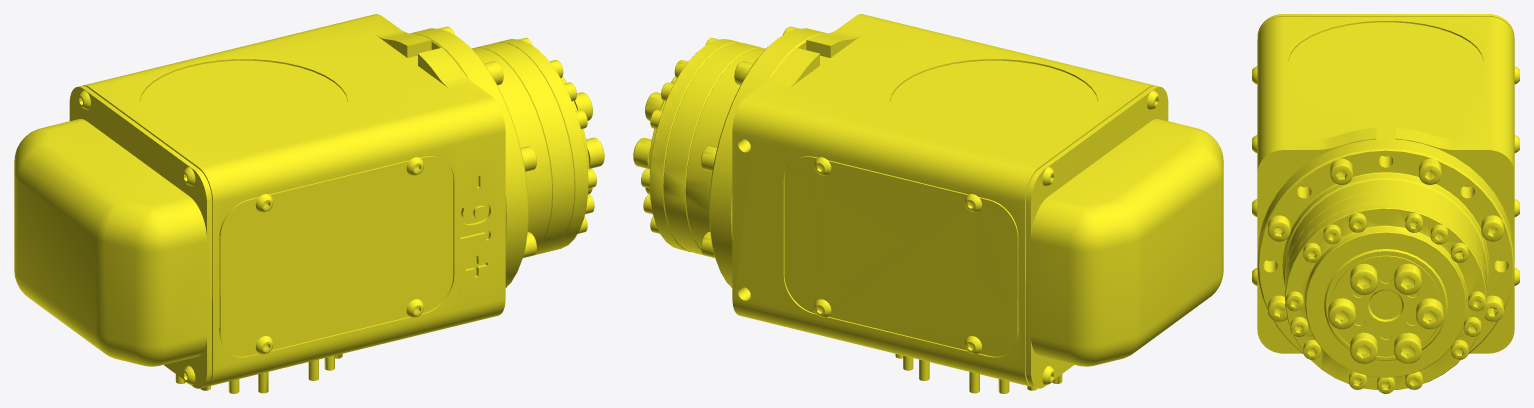
The picture shows the model from 3 angles, left to right: view 1: azimuth 30°, elevation 25°; view 2: azimuth 150°, elevation 25°; view 3: azimuth 270°, elevation 25°; orthographic projection. The views are drawn at different scales.
Parts seen in each view (by area): view 1: /Link5/Link5-mesh/0; view 2: /Link5/Link5-mesh/0; view 3: /Link5/Link5-mesh/0.
Part boxes in pixels (left/top/right/bottom): /Link5/Link5-mesh/0: left=14, top=14, right=604, bottom=393; /Link5/Link5-mesh/0: left=633, top=14, right=1223, bottom=393; /Link5/Link5-mesh/0: left=1252, top=14, right=1519, bottom=393.
Size of the model in its own units: 0.1717 by 0.083 by 0.0823.
